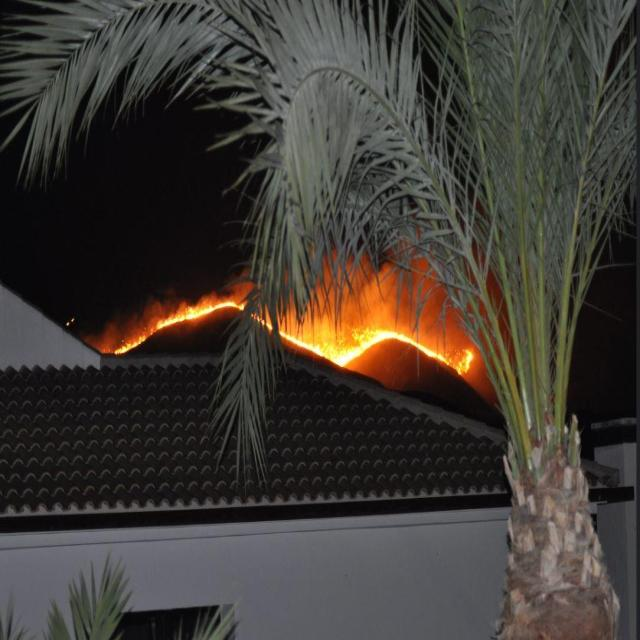Fire: (257, 291, 473, 381), (100, 279, 240, 355)
